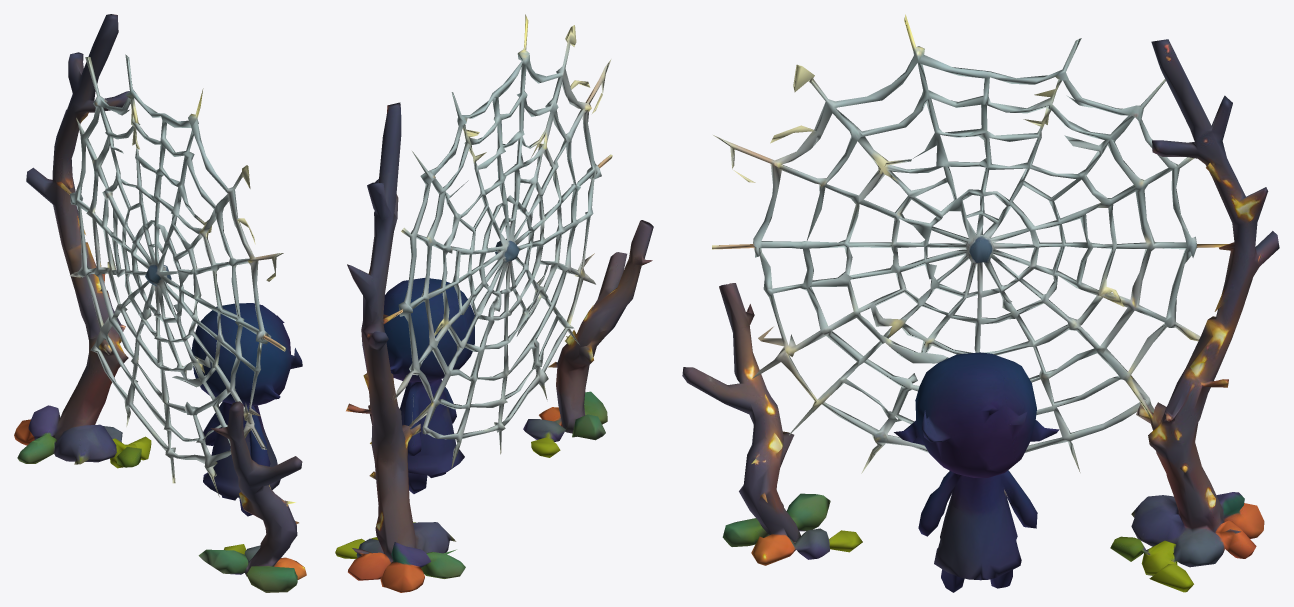
Rendered from prop_paralysis_web_model.glb.
3 renders of one model, left to right at view 1: azimuth 30°, elevation 25°; view 2: azimuth 150°, elevation 25°; view 3: azimuth 270°, elevation 25°, orthographic. The views are drawn at different scales.
Parts seen in each view (by area): view 1: tripo_node_a50a21ec-9b8f-46de-9389-25163b16d0c3; view 2: tripo_node_a50a21ec-9b8f-46de-9389-25163b16d0c3; view 3: tripo_node_a50a21ec-9b8f-46de-9389-25163b16d0c3.
Boxes of the visible parts, left/top/right/bottom form: tripo_node_a50a21ec-9b8f-46de-9389-25163b16d0c3: left=14, top=14, right=306, bottom=592; tripo_node_a50a21ec-9b8f-46de-9389-25163b16d0c3: left=335, top=14, right=653, bottom=592; tripo_node_a50a21ec-9b8f-46de-9389-25163b16d0c3: left=682, top=14, right=1279, bottom=592.
Bounding box in the file's own units: 0.3945 × 1 × 1.
1 material, 1 textured.
